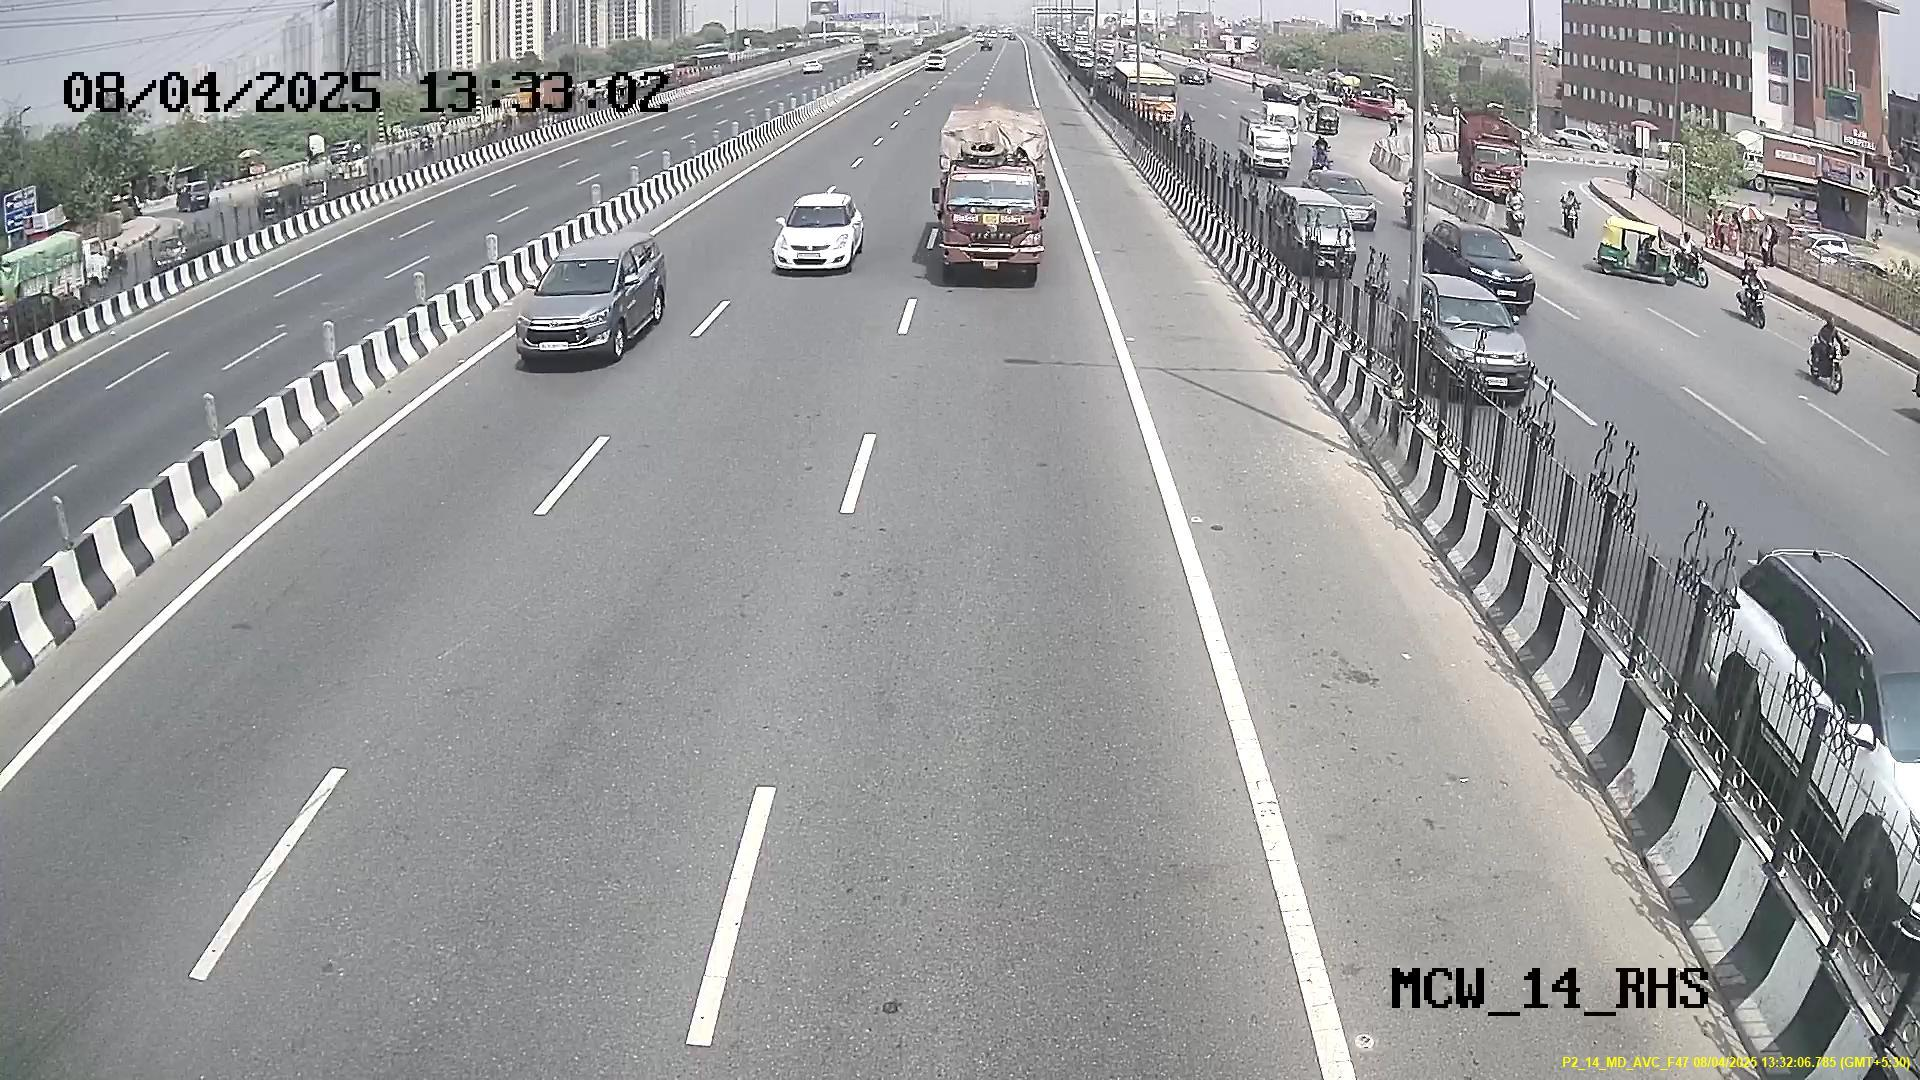car: (509, 245, 646, 367), (771, 193, 861, 280)
lcv: (932, 154, 1050, 281)
